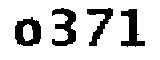1: (118, 7, 148, 54)
3: (48, 4, 81, 51)
7: (85, 6, 114, 50)
o: (13, 17, 44, 48)
